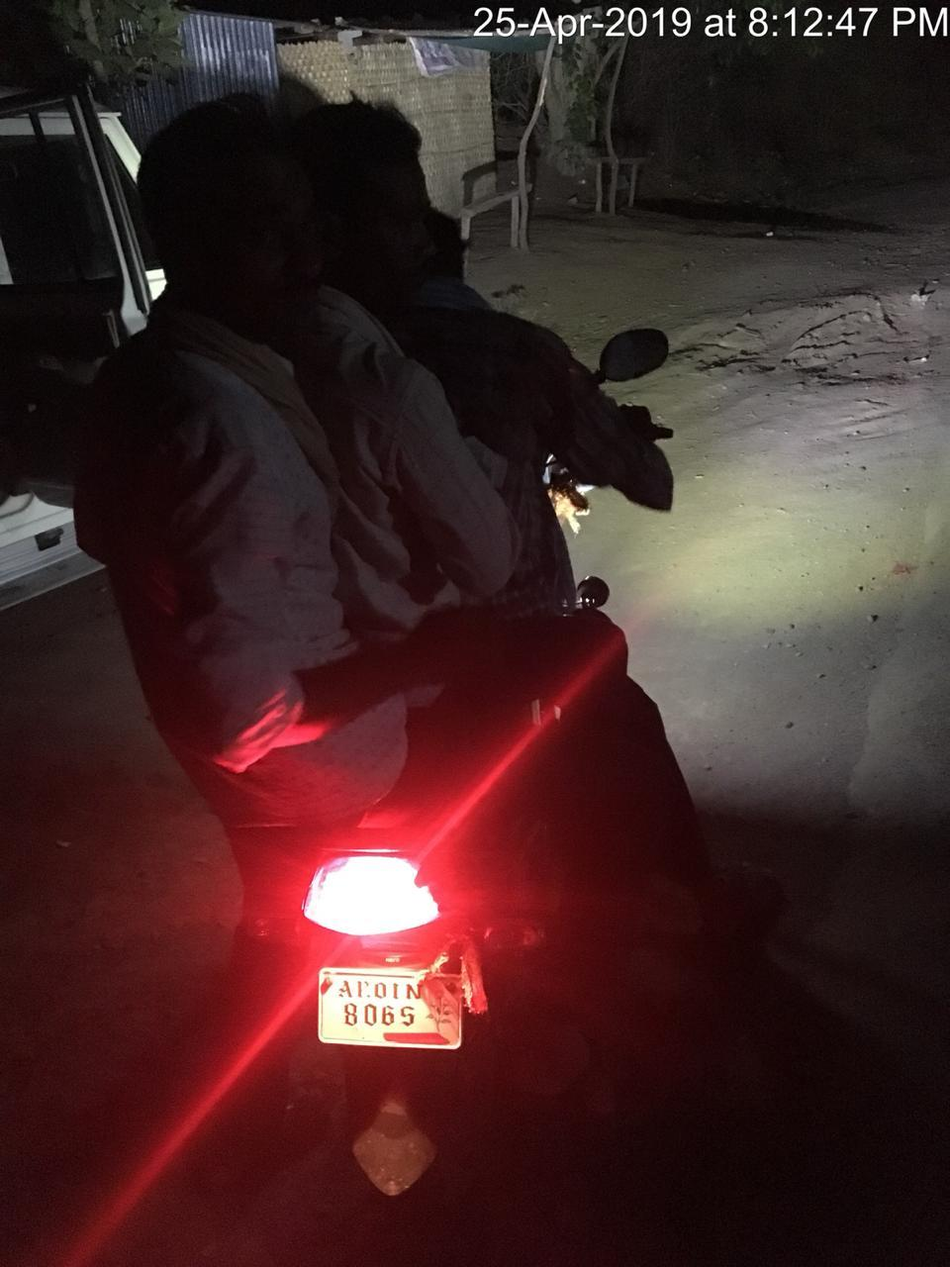plate: (298, 943, 501, 1070)
